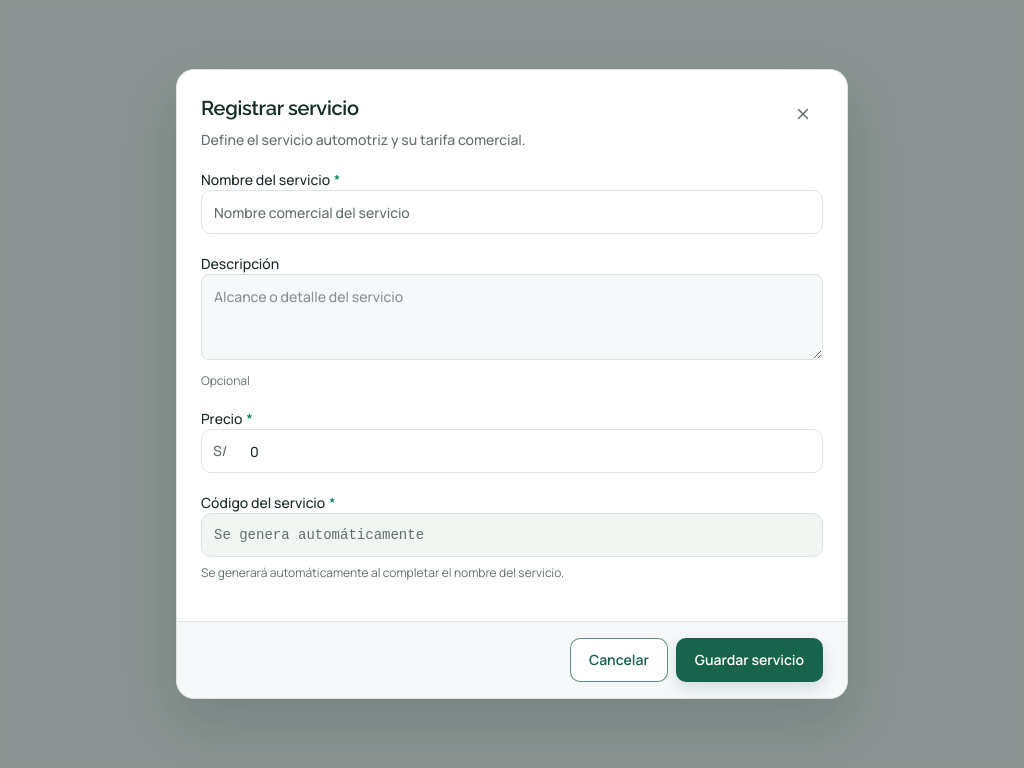
Formulario de servicios › rechaza un precio negativo
The width and height of the screenshot is (1024, 768).
Type "Cambio de bomba" into the field labelled "Nombre del servicio*".
click(512, 212); type("Cambio de bomba")  # box x1=202 y1=191 x2=822 y2=233
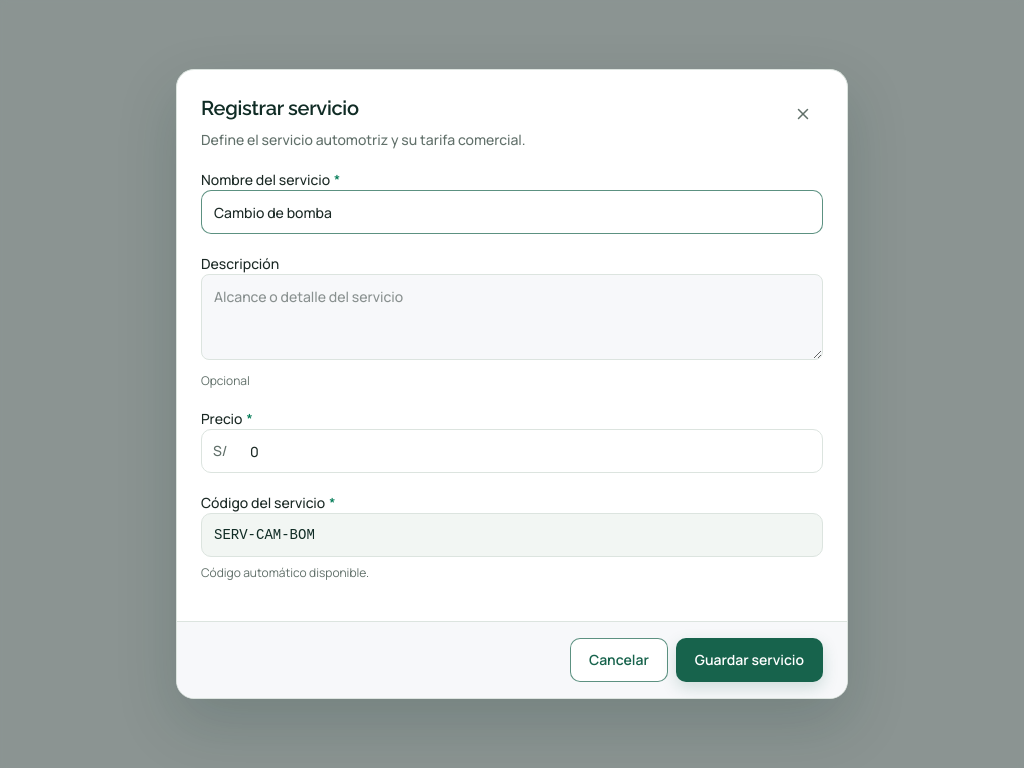
Replace the text in the number field labelled "Precio* S/" with "-5" at [530, 451], box x1=238 y1=430 x2=822 y2=472
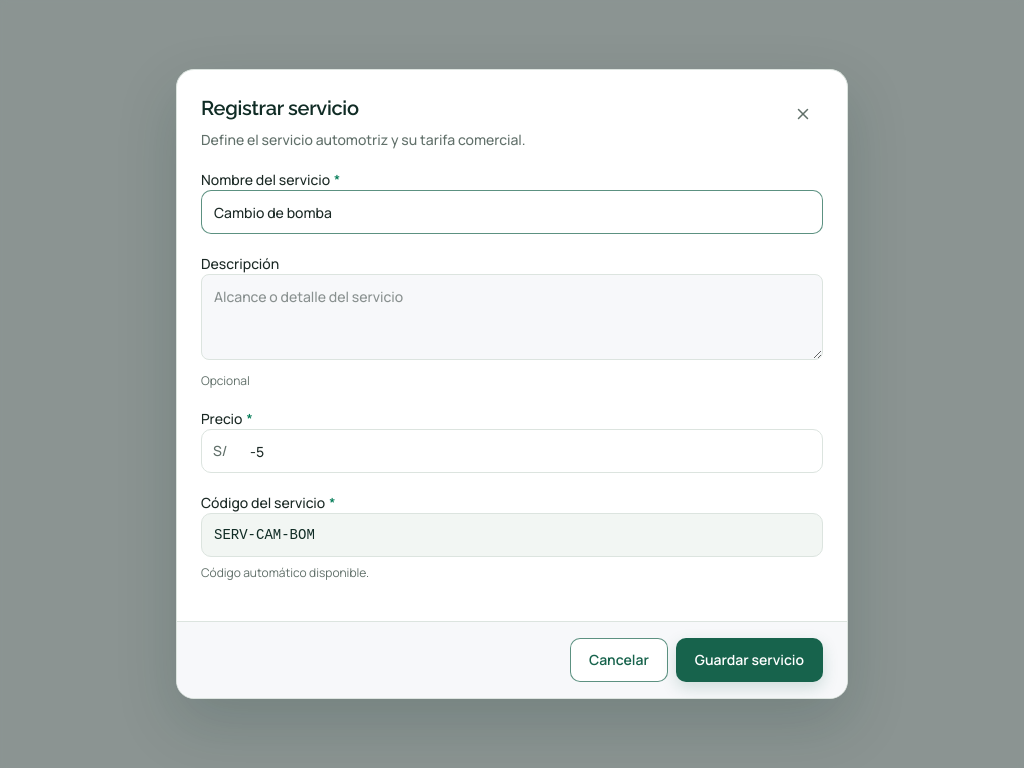
Click the button "Guardar servicio".
click(749, 660)  # box x1=676 y1=638 x2=823 y2=682
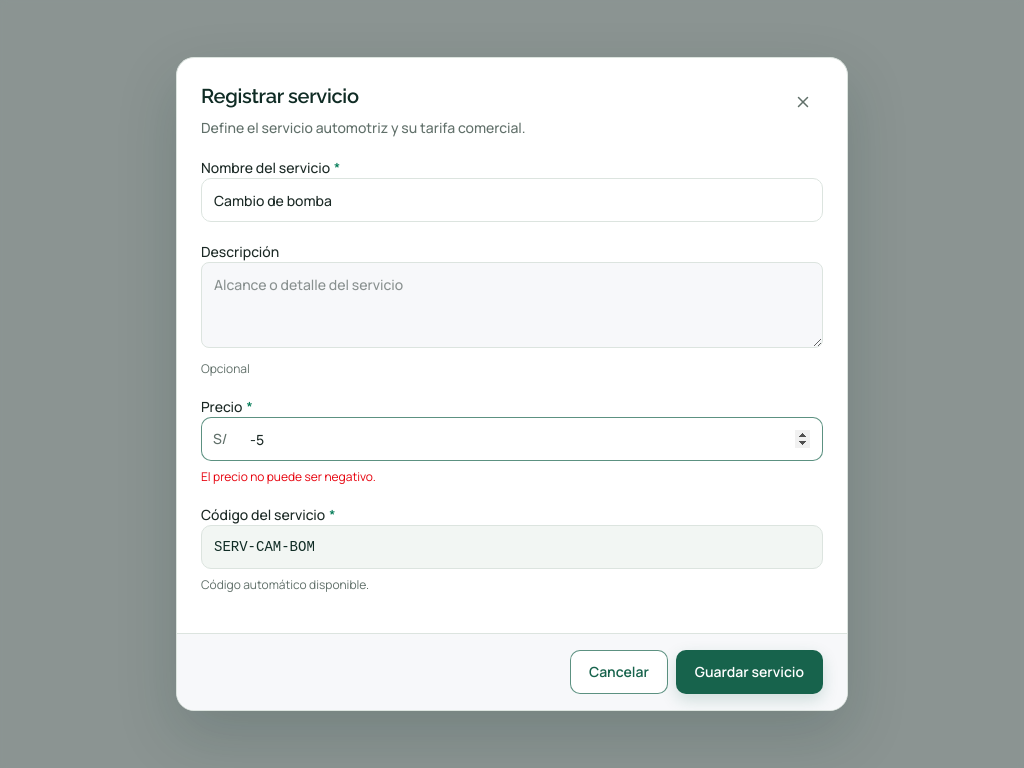
Result: the text "El precio no puede ser negativo." is shown at x1=201 y1=468 x2=376 y2=485
